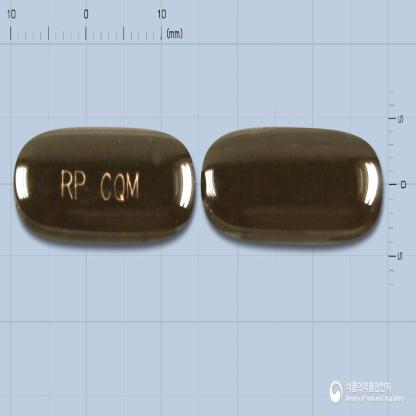pill: (200, 126, 384, 247), (13, 124, 196, 242)
